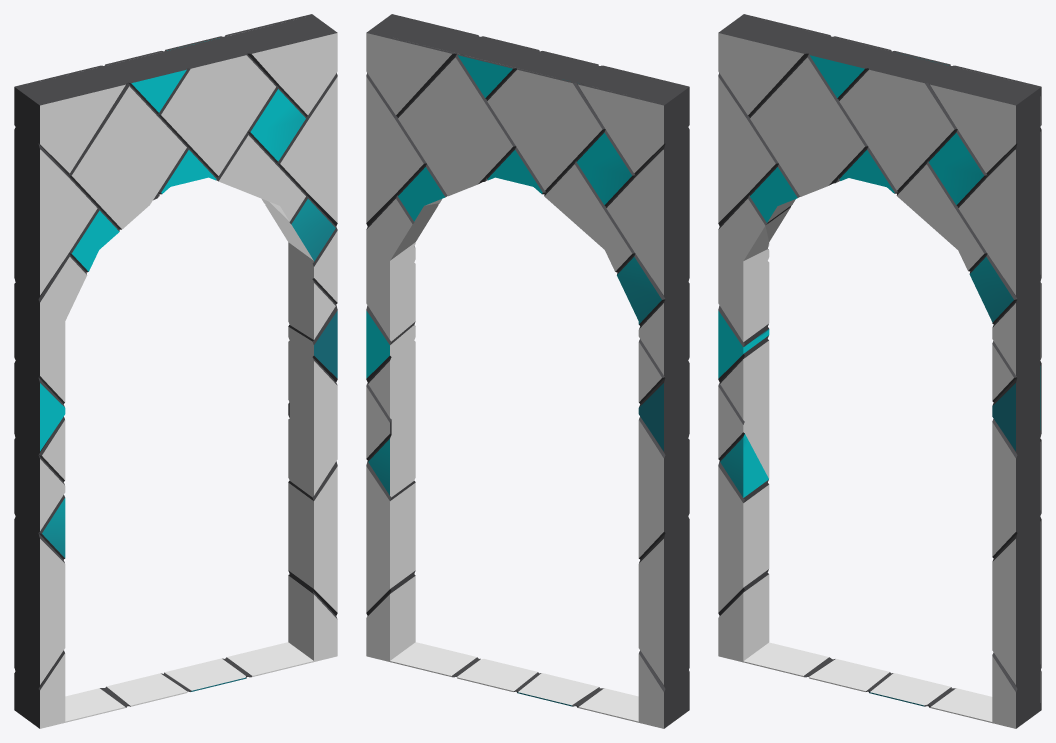
Rendered from TurquoiseTileDoorframe.glb.
3 views of the same model, side by side, from view 1: azimuth 30°, elevation 25°; view 2: azimuth 150°, elevation 25°; view 3: azimuth 330°, elevation 25° (orthographic).
Visible parts, largest first — view 1: wall_turquoiseTile_door; view 2: wall_turquoiseTile_door; view 3: wall_turquoiseTile_door.
Boxes of the visible parts, bbox=[...] form: wall_turquoiseTile_door: bbox=[14, 14, 337, 728]; wall_turquoiseTile_door: bbox=[366, 14, 689, 728]; wall_turquoiseTile_door: bbox=[718, 14, 1041, 728].
Size of what is drawn, in the model's own units: 2 by 4 by 0.3.
1 material, 1 textured.
